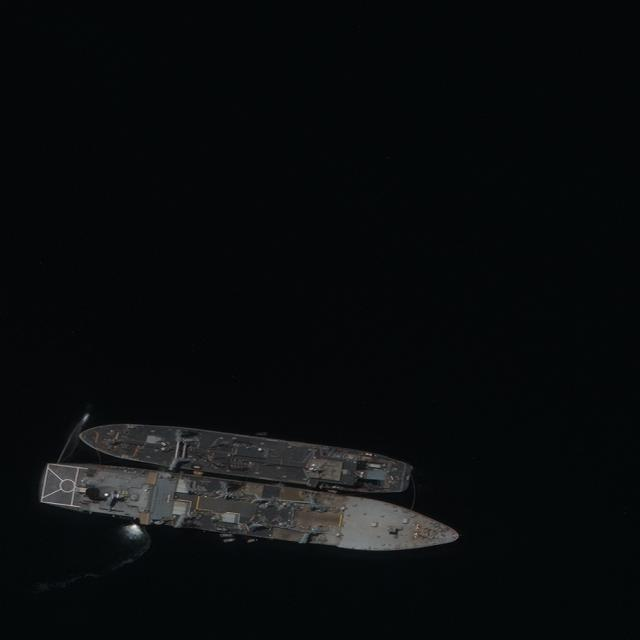Other Warship: (40, 454, 462, 566), (72, 413, 414, 501)
